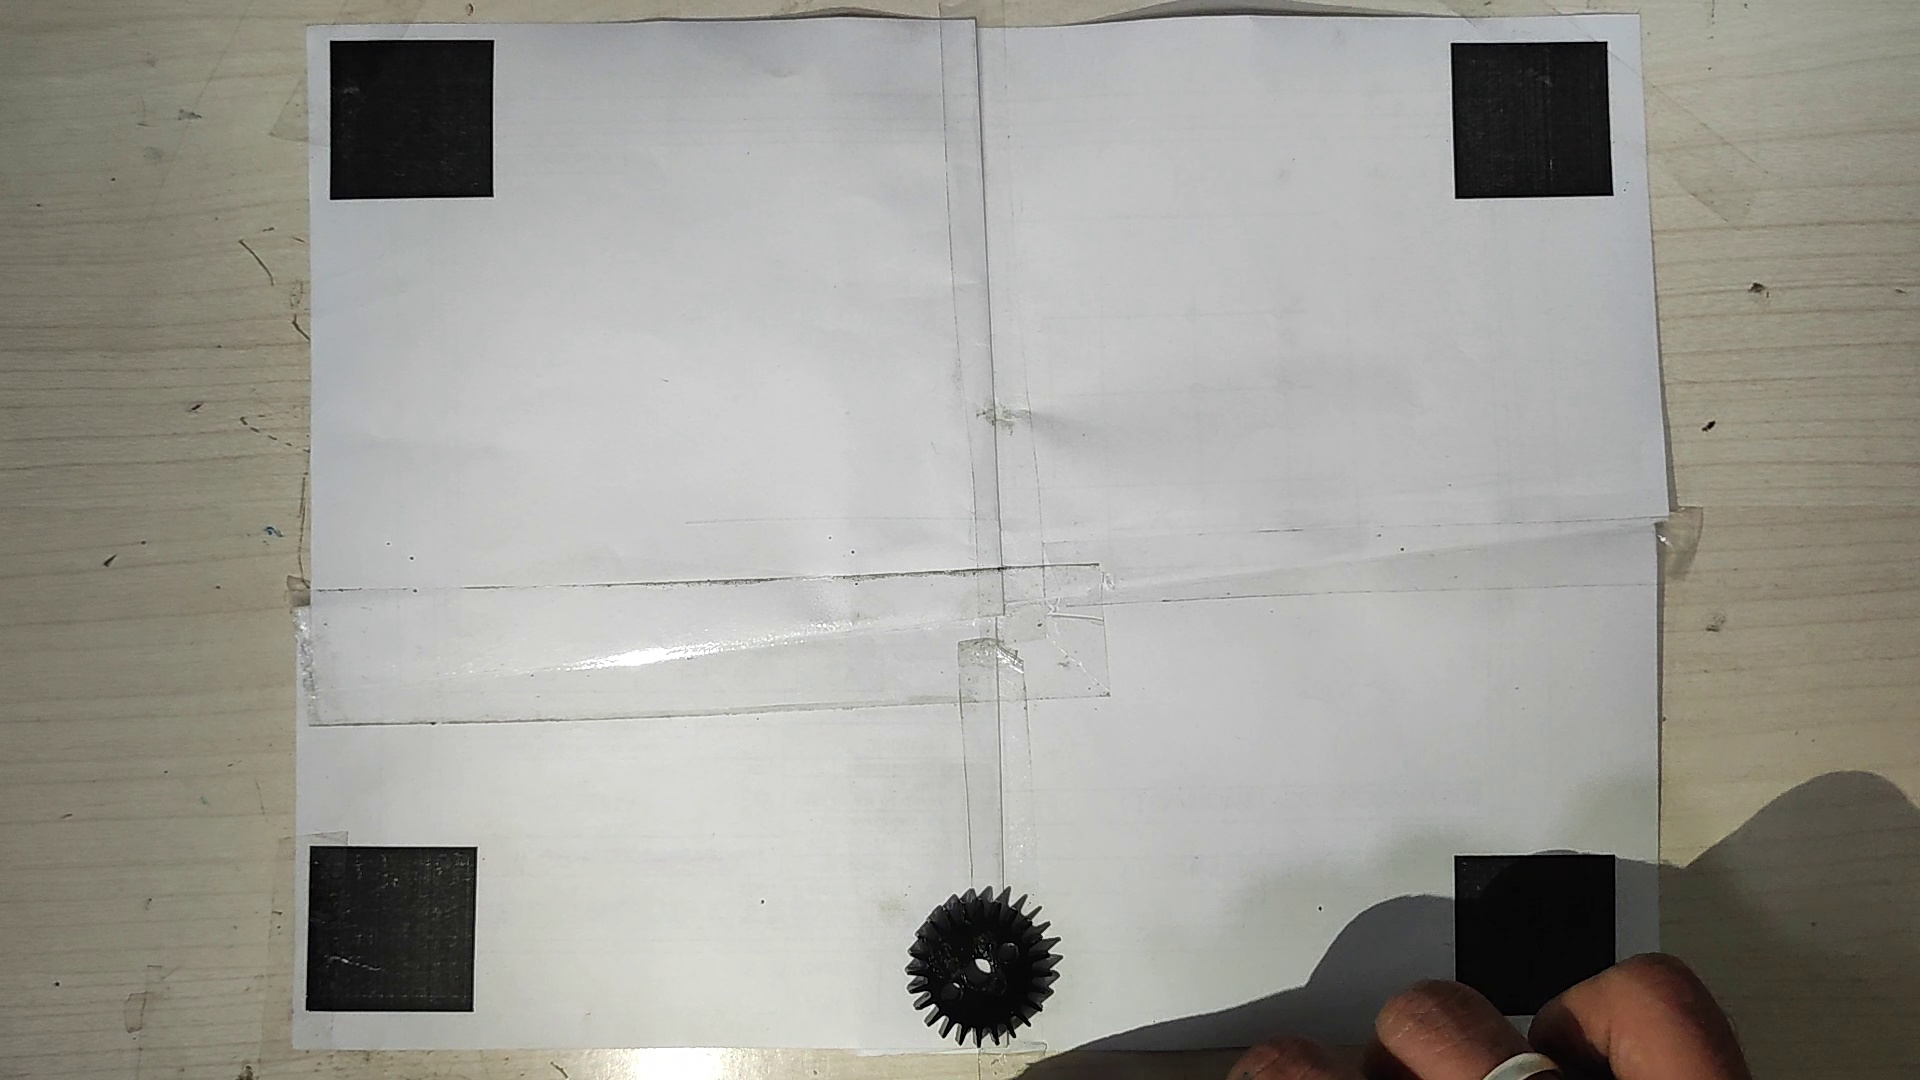Gear: (901, 880, 1059, 1050)
